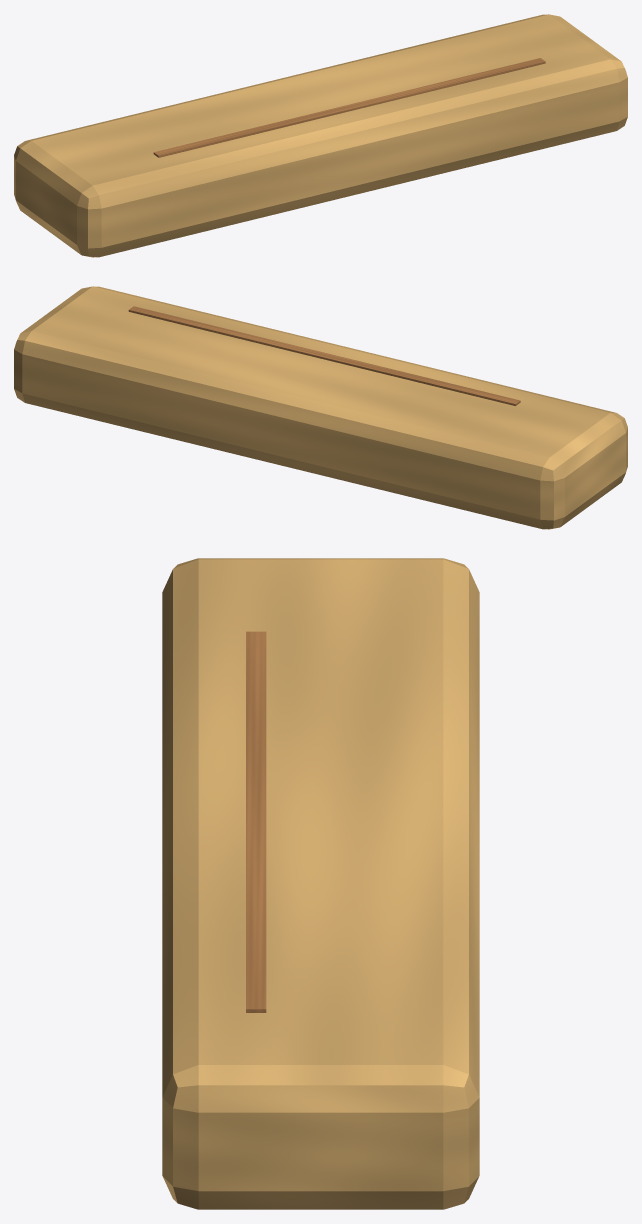
File: plank.glb
The picture shows the model from 3 angles, top to bottom: view 1: azimuth 30°, elevation 25°; view 2: azimuth 150°, elevation 25°; view 3: azimuth 270°, elevation 25°; orthographic projection. The views are drawn at different scales.
Visible parts, largest first — view 1: plank-mesh; view 2: plank-mesh; view 3: plank-mesh.
Boxes of the visible parts, left/top/right/bottom form: plank-mesh: left=14, top=14, right=627, bottom=257; plank-mesh: left=14, top=286, right=627, bottom=529; plank-mesh: left=162, top=558, right=479, bottom=1209.
Bounding box in the file's own units: 0.88 × 0.113 × 0.22.
Materials: 1 (1 with a texture image).
